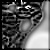node: (20, 19, 32, 32), (8, 5, 17, 12)
